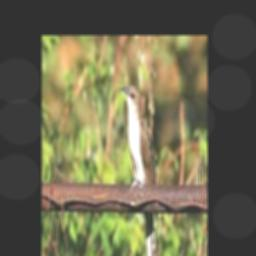Cuckoo: (120, 85, 157, 256)
